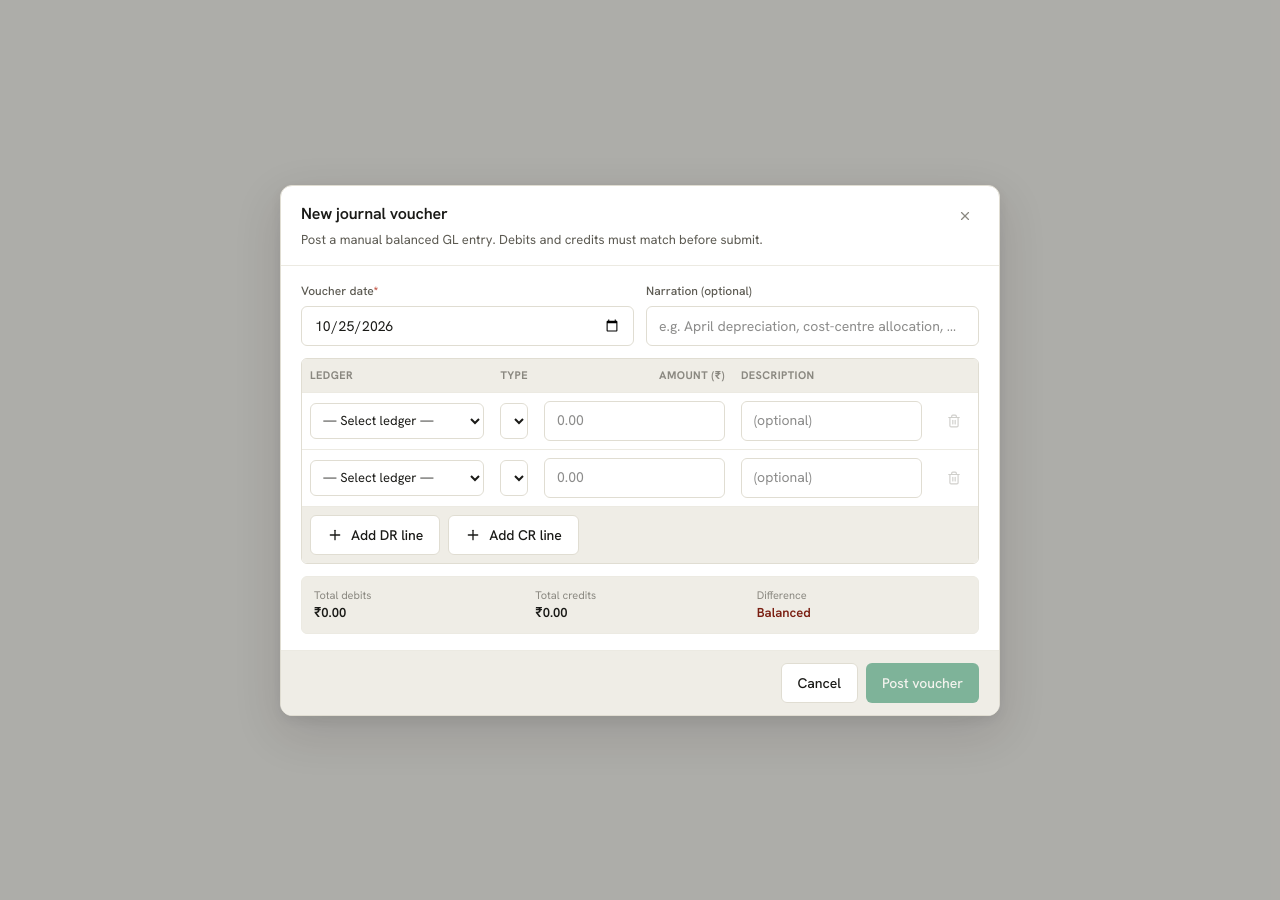
Test: NewJournalVoucherDialog › allows adding and removing lines (remove disabled when only two remain)
Expected: the button named "remove line 1" is disabled, [938,404,970,436]
Click the button with aria-label "add debit line" at {"x": 375, "y": 534}, box [310,514,440,554]
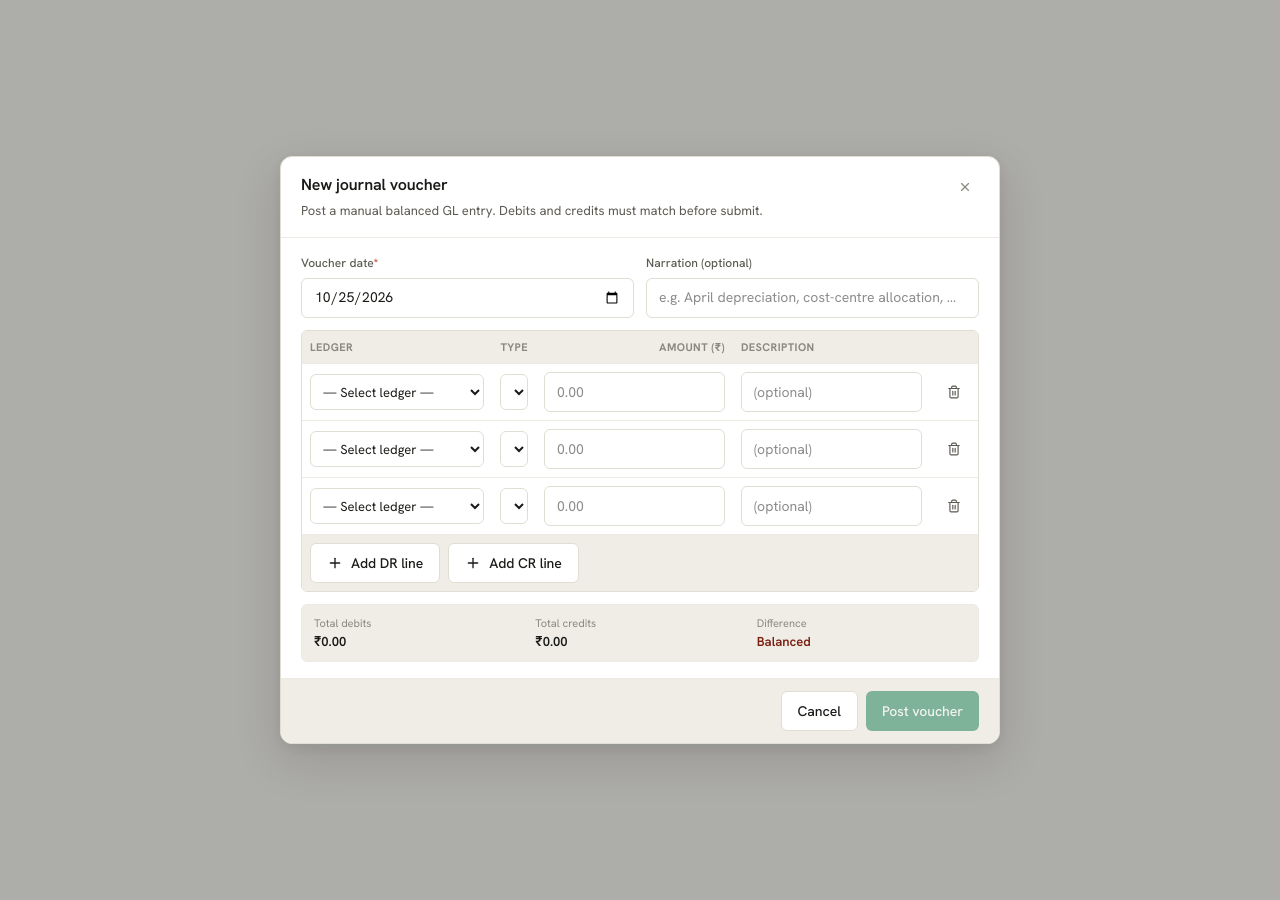
Expected: the dropdown named "line 3 ledger" is shown, [310,488,484,524]
Expected: the button named "remove line 1" is enabled, [938,376,970,408]
Click the button named "remove line 3" at {"x": 954, "y": 506}, box [938,490,970,522]
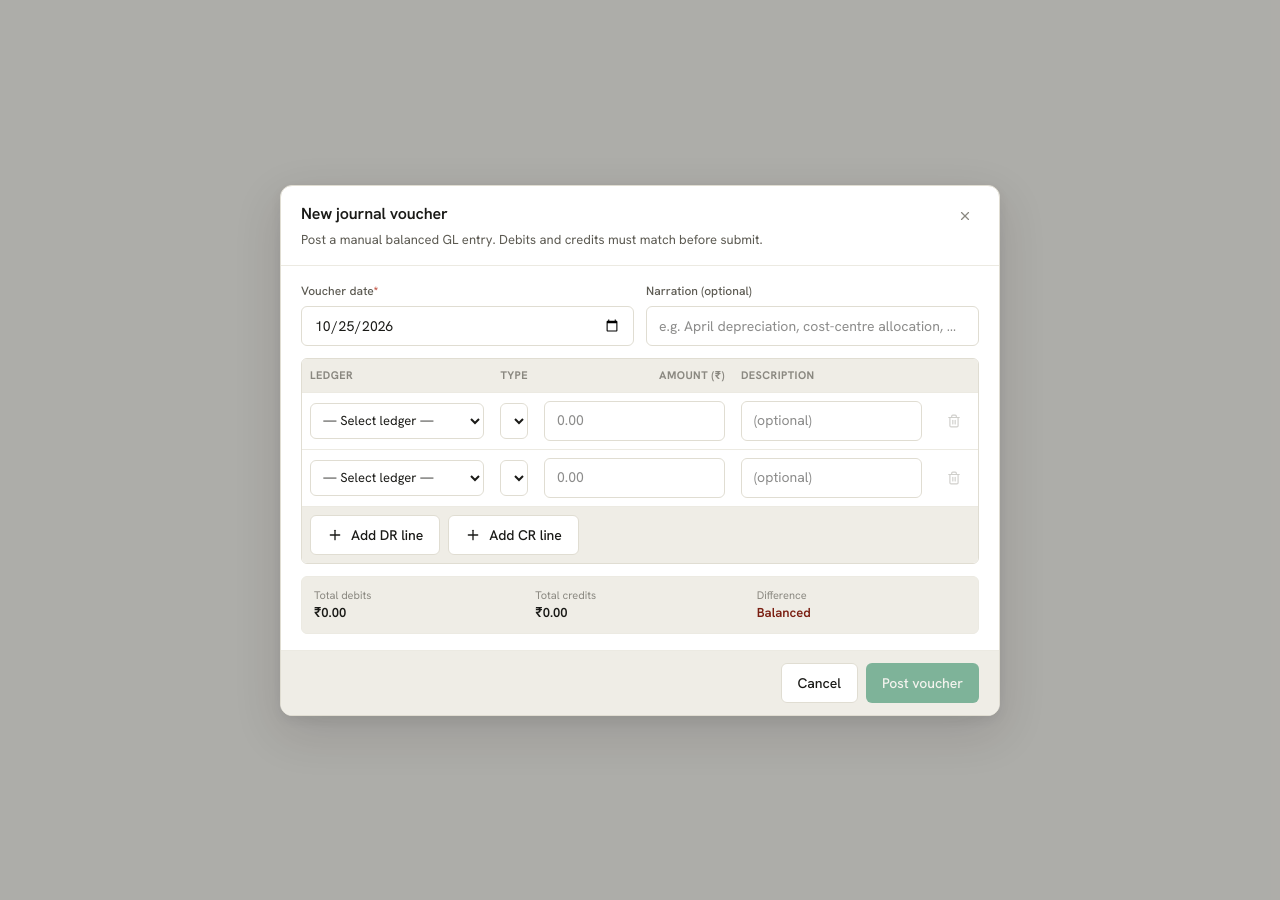
Expected: the button named "remove line 1" is disabled, [938,404,970,436]
